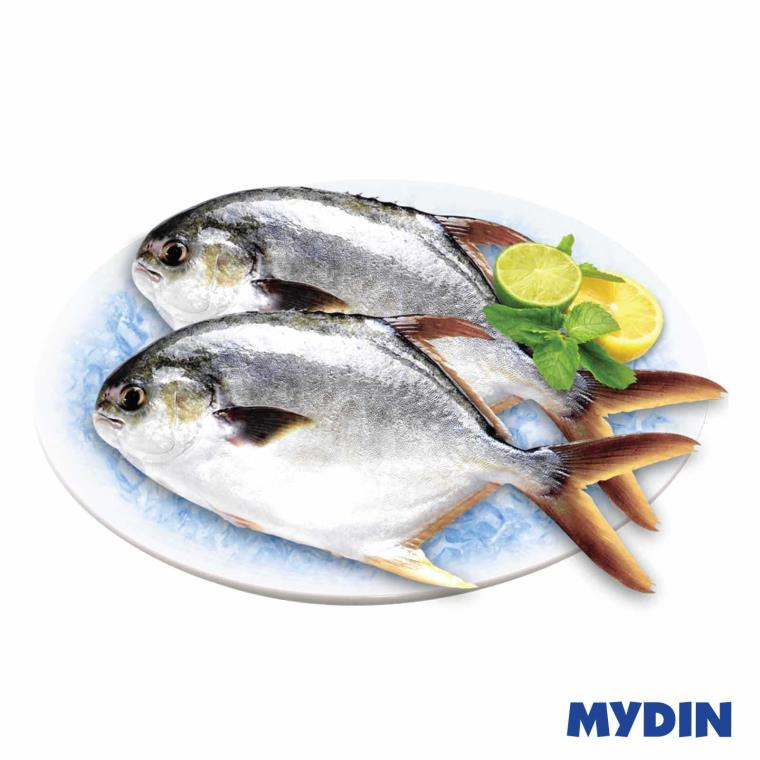Ikan Bawal: (71, 307, 698, 618), (115, 187, 703, 430)
